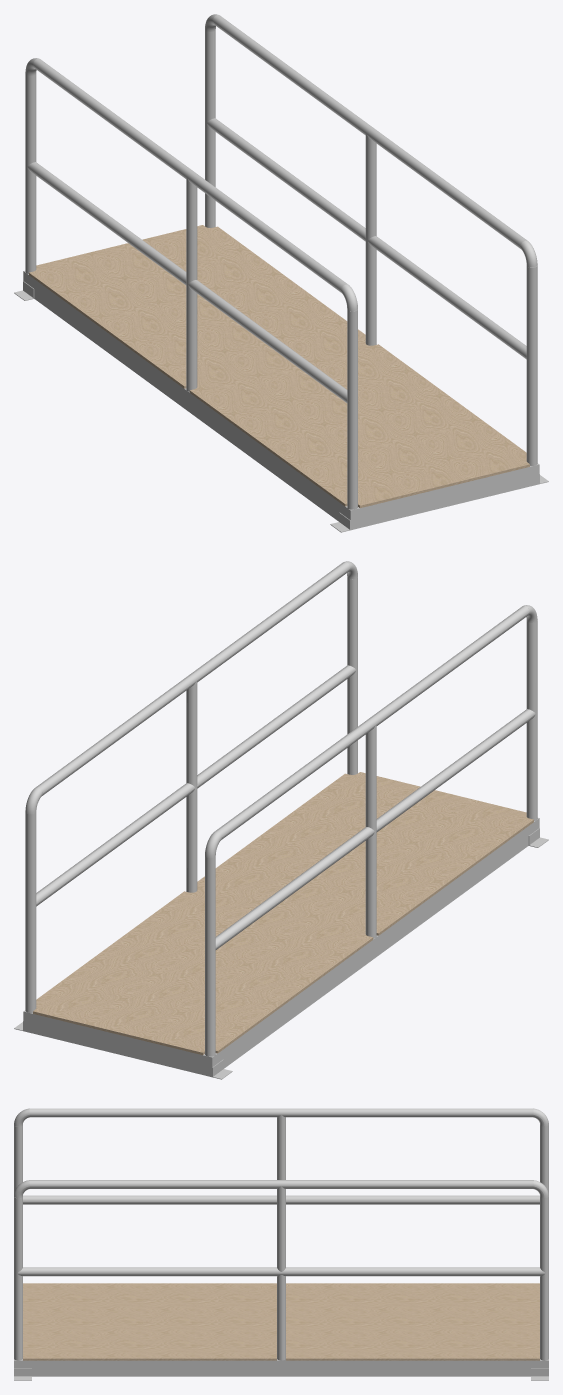
Rendered from paso-gato.glb.
3 renders of one model, top to bottom at view 1: azimuth 30°, elevation 25°; view 2: azimuth 150°, elevation 25°; view 3: azimuth 270°, elevation 25°, orthographic. The views are drawn at different scales.
Visible parts, largest first — view 1: object 17, object 16, object 13, 36236, 33924, 33861, 36163; view 2: object 17, object 16, object 13, 36236, 33924, 33861, 36163; view 3: object 17, 33924, 36236, 36163, 33861, object 13, object 16, 34027, 34026.
Boxes of the visible parts, x1,y1,x2,y2 form: object 17: (23,225,539,530); object 16: (25,74,357,509); object 13: (205,30,537,465); 36236: (27,162,347,402); 33924: (207,118,526,359); 33861: (212,15,527,248); 36163: (33,58,347,292); object 17: (23,772,539,1077); object 16: (205,621,537,1056); object 13: (25,577,357,1012); 36236: (215,709,535,949); 33924: (36,665,355,906); 33861: (35,562,350,795); 36163: (215,605,529,839); object 17: (14,1283,548,1376); 33924: (18,1267,544,1276); 36236: (23,1195,539,1204); 36163: (29,1108,533,1117); 33861: (29,1180,533,1188); object 13: (14,1186,548,1360); object 16: (14,1115,548,1193); 34027: (540,1197,544,1360); 34026: (18,1197,22,1360).
Size of the model in its own units: 1.1 by 1.2 by 3.
Materials: 4 (2 with a texture image).
